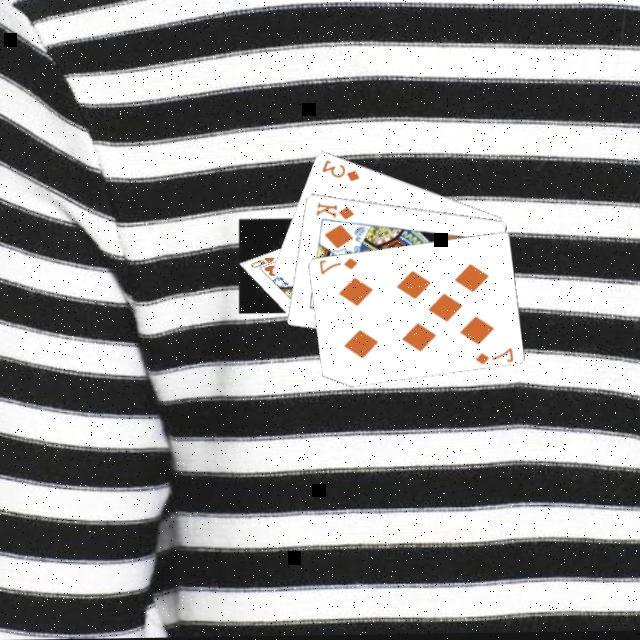3D: (320, 156, 364, 184)
7D: (318, 255, 362, 278), (473, 345, 518, 366)
KD: (314, 198, 358, 222)
